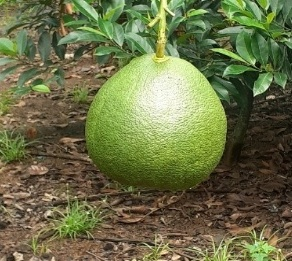Buoi: (82, 49, 236, 198)
